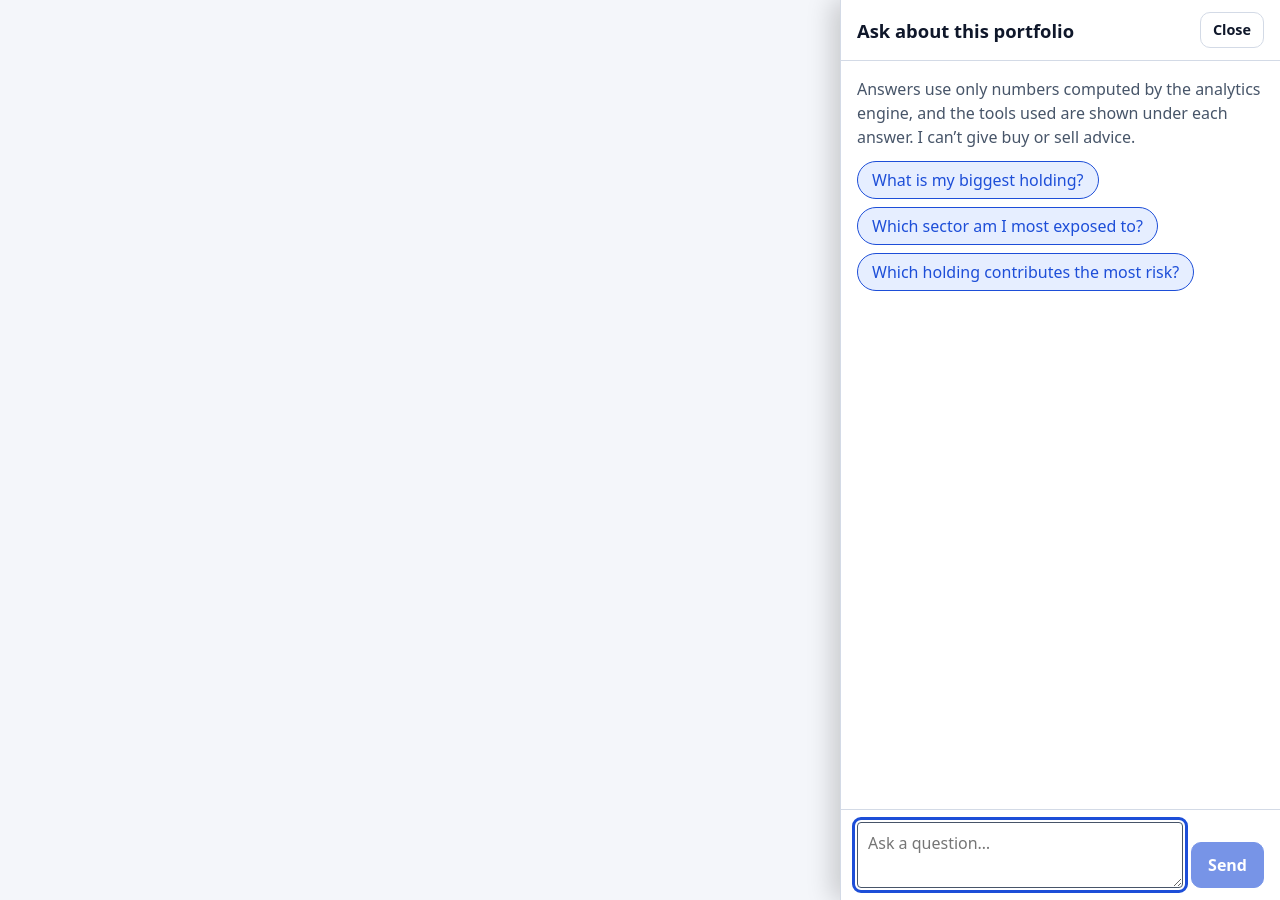
Test: chat drawer › shows a friendly message when the rate limit is hit
Type "hello" into the text box named "Your question". click: (1020, 855)
box: [857,822,1183,888]
Then press Enter
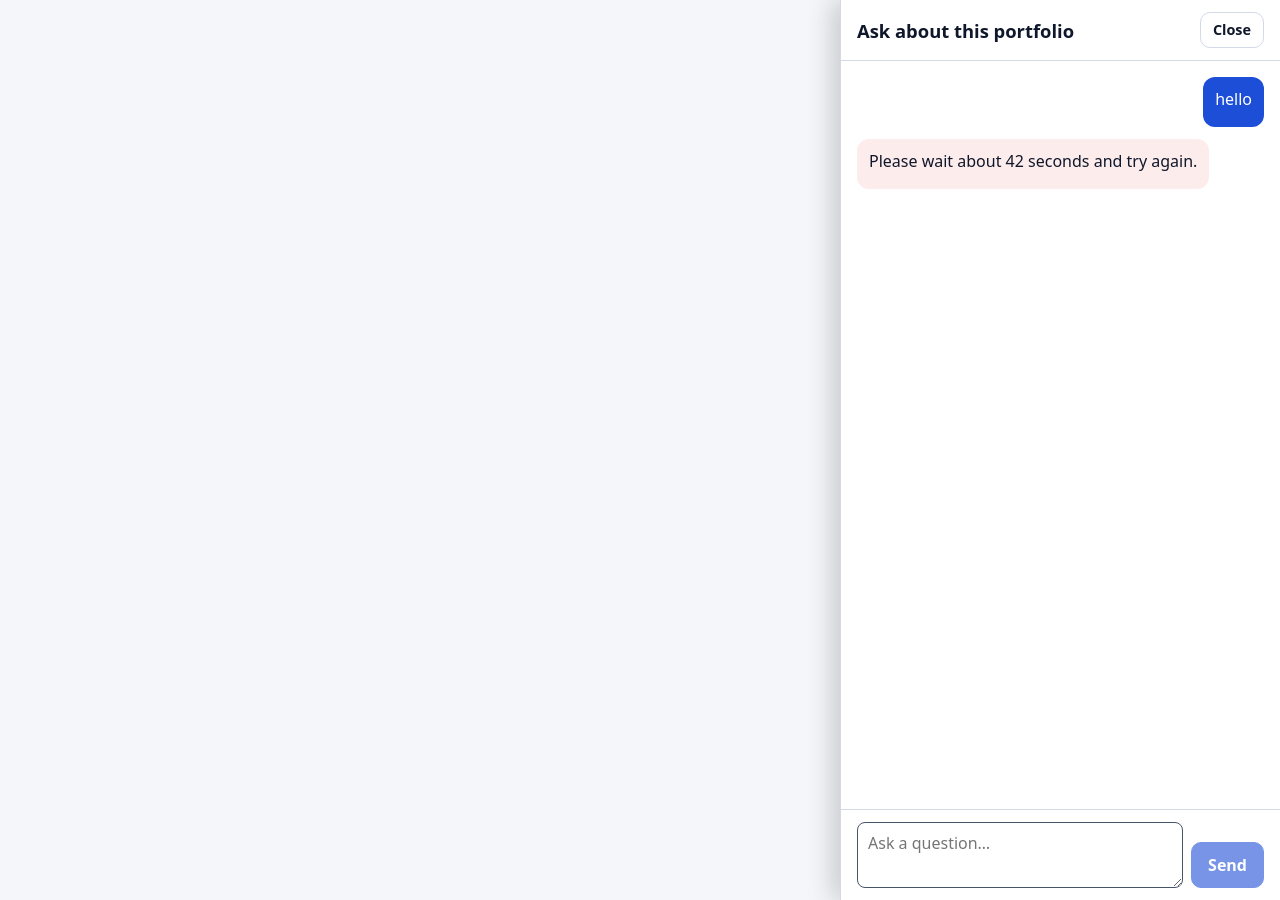
Now the text "Please wait about 42 seconds and try again." is shown, box [869,149,1197,173]
